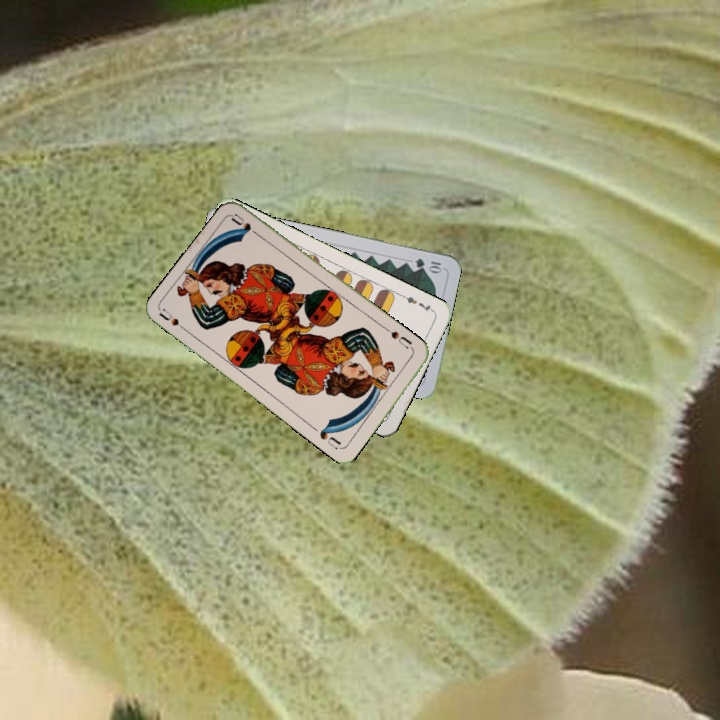E7: (398, 291, 437, 315)
G10: (411, 254, 445, 275)
SU: (156, 306, 193, 336), (382, 324, 415, 351)
